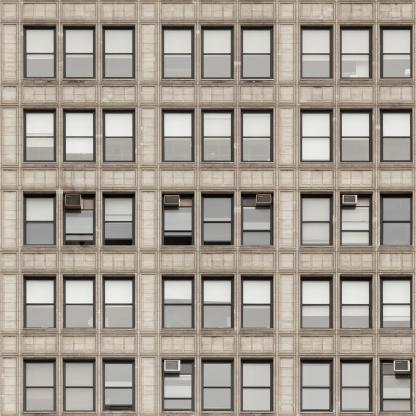Building Outline: (0, 0, 416, 416)
Facade: (0, 0, 416, 416)
Floor: (0, 19, 416, 95), (0, 186, 416, 261), (0, 103, 416, 178), (0, 269, 416, 344), (0, 352, 416, 416), (0, 1, 416, 12)
Floor Slab: (0, 178, 416, 186), (0, 261, 416, 269), (0, 345, 416, 352), (0, 12, 416, 19), (0, 95, 416, 102)
Window: (340, 358, 373, 412), (102, 358, 135, 412), (23, 358, 56, 412), (201, 358, 234, 412), (340, 25, 373, 79), (102, 25, 135, 79), (23, 25, 56, 79), (201, 25, 234, 79), (340, 108, 373, 162), (102, 108, 135, 162), (23, 108, 56, 162), (201, 108, 234, 162), (340, 192, 373, 246), (102, 192, 135, 246), (23, 192, 56, 246), (201, 192, 234, 246), (340, 275, 373, 329), (102, 275, 135, 329), (23, 275, 56, 329), (201, 275, 234, 329), (380, 358, 412, 412), (301, 358, 333, 412), (63, 358, 95, 412), (241, 358, 273, 412), (162, 358, 194, 412), (380, 25, 412, 79), (301, 25, 333, 79), (63, 25, 95, 79), (241, 25, 273, 79), (162, 25, 194, 79), (380, 108, 412, 162), (301, 108, 333, 162), (63, 108, 95, 162), (241, 108, 273, 162), (162, 108, 194, 162), (380, 192, 412, 246), (301, 192, 333, 246), (63, 192, 95, 246), (241, 192, 273, 246), (162, 192, 194, 246), (380, 275, 412, 329), (301, 275, 333, 329), (63, 275, 95, 329), (241, 275, 273, 329), (162, 275, 194, 329)
